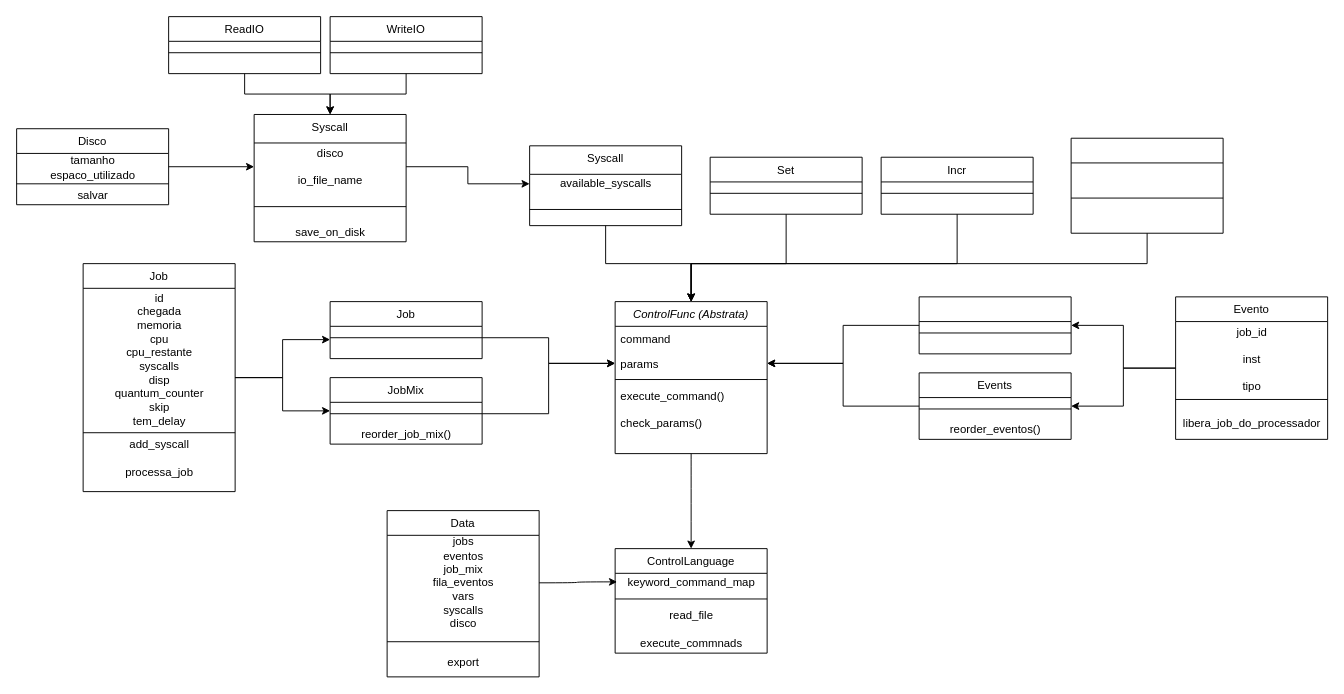
The diagram is 1344 pixels wide and 694 high, and some of its shapes have lost their labels. Each missing label, with the centre of its shape:
Commet: the point at 1146,185
Event: the point at 994,325
